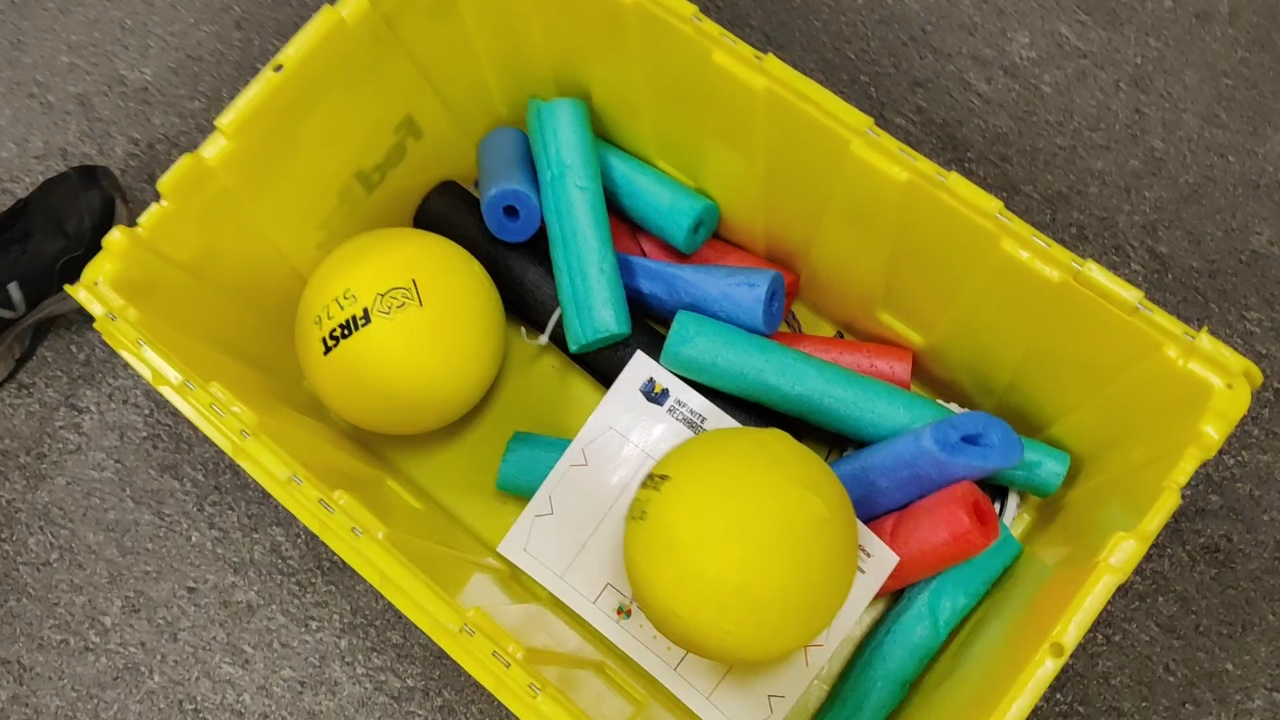Ball: (620, 426, 863, 667), (296, 231, 503, 431)
